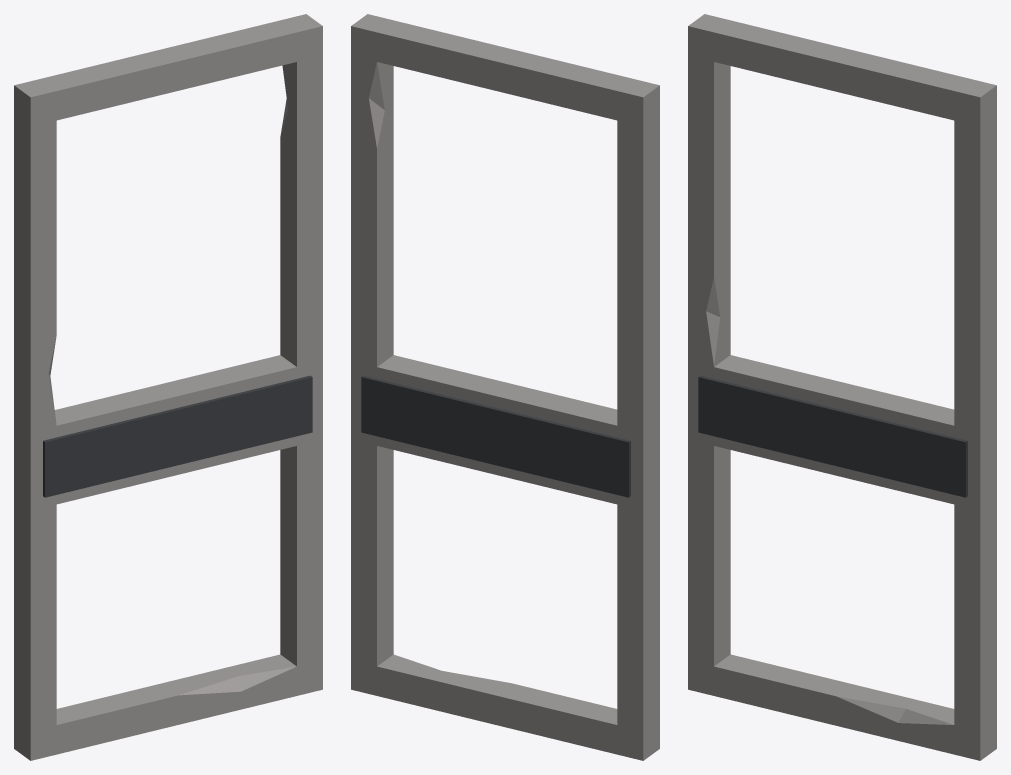
Rendered from SM_Bld_Door_Shop_01.fbx.
The picture shows the model from 3 angles, left to right: view 1: azimuth 30°, elevation 25°; view 2: azimuth 150°, elevation 25°; view 3: azimuth 330°, elevation 25°; orthographic projection.
Parts seen in each view (by area): view 1: SM_Bld_Door_Shop_01; view 2: SM_Bld_Door_Shop_01; view 3: SM_Bld_Door_Shop_01.
Part boxes in pixels (<box>): SM_Bld_Door_Shop_01: <box>14,14,322,760</box>; SM_Bld_Door_Shop_01: <box>351,14,659,760</box>; SM_Bld_Door_Shop_01: <box>688,14,996,760</box>.
Size of the model in its own units: 103 by 222 by 12.7.
